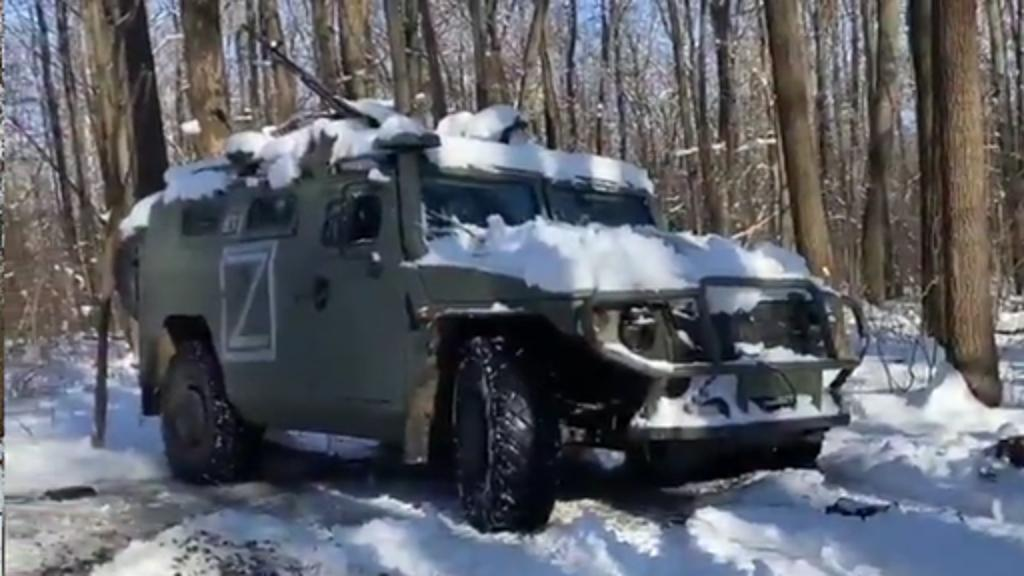CAR: (108, 92, 846, 544)
